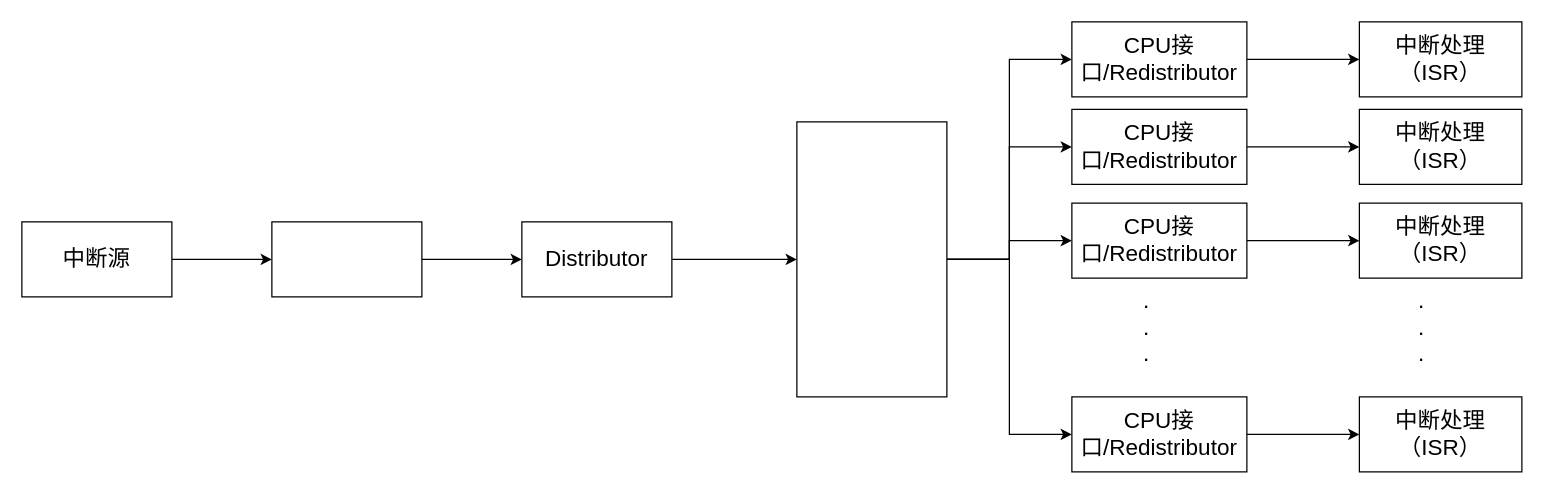
The diagram is 1544 pixels wide and 494 high, and some of its shapes have lost their labels. Here are the shapes that lost their labels. From the top down, the centre of each, then its label:
At point (346, 259): "SPI事件".
At point (871, 259): "选核策略".
